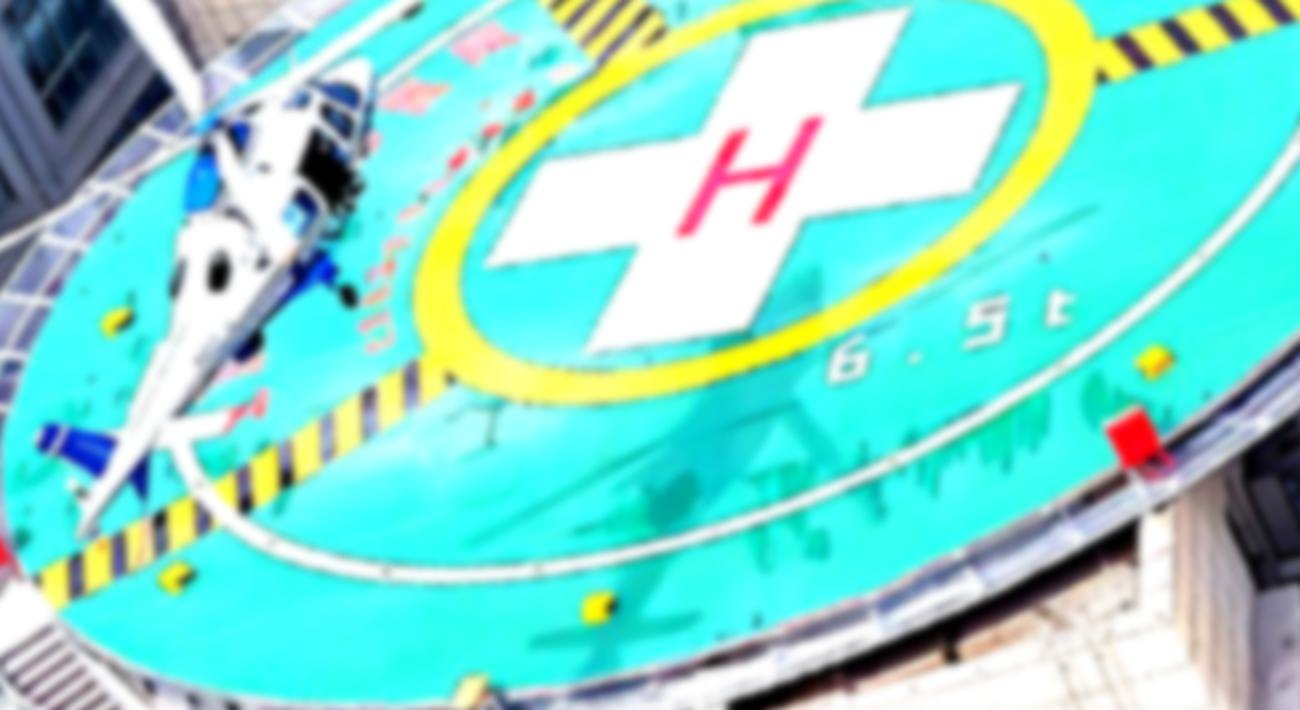Apron: (393, 1, 1106, 408)
